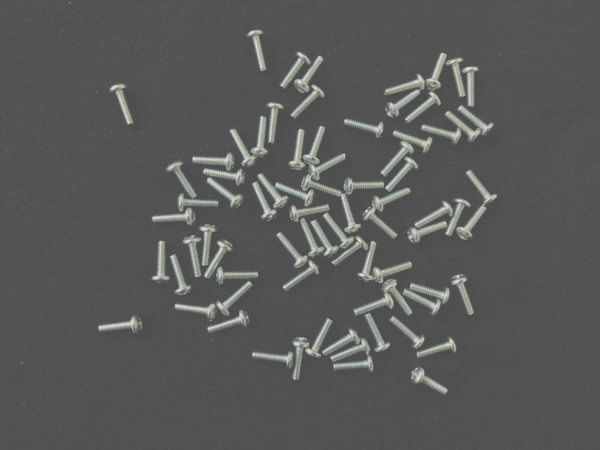shortscrew: (216, 282, 254, 317), (290, 84, 326, 120), (279, 50, 312, 89), (206, 177, 245, 210), (331, 234, 370, 266), (386, 157, 420, 193), (362, 207, 398, 241), (382, 140, 415, 177), (277, 232, 309, 270), (167, 160, 198, 199), (205, 239, 235, 279), (258, 174, 290, 211), (282, 260, 320, 291), (230, 129, 259, 169), (467, 171, 499, 207), (323, 213, 355, 249), (402, 289, 443, 317), (305, 318, 333, 359), (382, 280, 413, 317), (411, 367, 449, 397), (353, 291, 395, 318), (391, 317, 425, 350), (446, 112, 481, 144), (294, 56, 324, 93), (459, 106, 494, 137), (385, 90, 421, 120), (365, 314, 392, 354), (309, 153, 346, 182), (445, 198, 471, 239), (252, 182, 278, 223), (311, 220, 339, 258), (322, 328, 360, 356), (110, 84, 135, 126), (456, 206, 486, 241), (414, 201, 454, 227), (208, 310, 251, 334), (450, 275, 475, 316), (246, 28, 269, 72), (371, 188, 411, 213), (331, 338, 371, 363), (393, 131, 434, 155), (407, 221, 448, 245), (276, 183, 316, 207), (415, 336, 458, 358), (97, 315, 142, 336), (411, 283, 452, 306), (384, 74, 426, 96), (356, 241, 377, 285), (303, 126, 326, 166), (182, 235, 203, 278), (372, 262, 413, 284), (425, 53, 448, 92), (301, 176, 341, 198), (344, 118, 385, 139), (422, 125, 462, 146), (344, 178, 385, 198), (176, 302, 217, 322), (288, 203, 329, 223), (341, 195, 362, 234), (152, 241, 171, 284), (291, 337, 310, 380), (203, 167, 246, 186), (199, 224, 218, 266), (152, 208, 196, 226), (192, 153, 236, 171), (447, 57, 466, 98), (267, 101, 285, 144), (252, 351, 295, 369), (251, 116, 269, 158), (217, 267, 259, 285), (334, 356, 375, 374), (289, 129, 306, 172), (178, 194, 220, 211), (462, 67, 479, 107)
